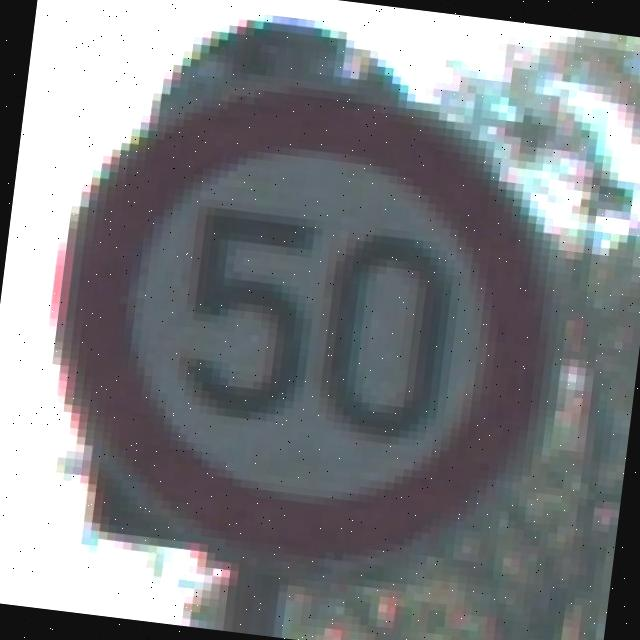Ograniczenie predkosci do 50: (24, 60, 582, 598)
